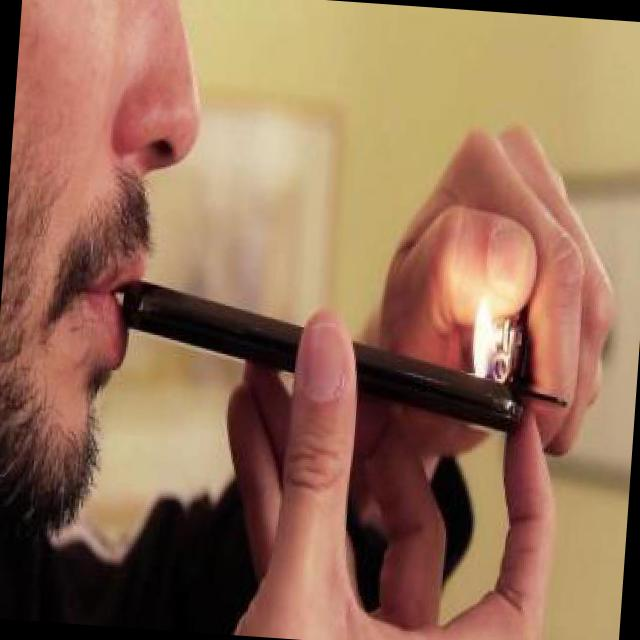Fire: (460, 281, 507, 388)
